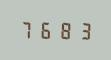eight: (54, 19, 71, 40)
seven: (18, 19, 35, 39)
six: (36, 19, 53, 39)
three: (72, 20, 89, 40)
